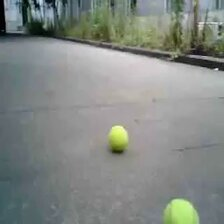tennis: (161, 198, 199, 224), (108, 125, 129, 153)
